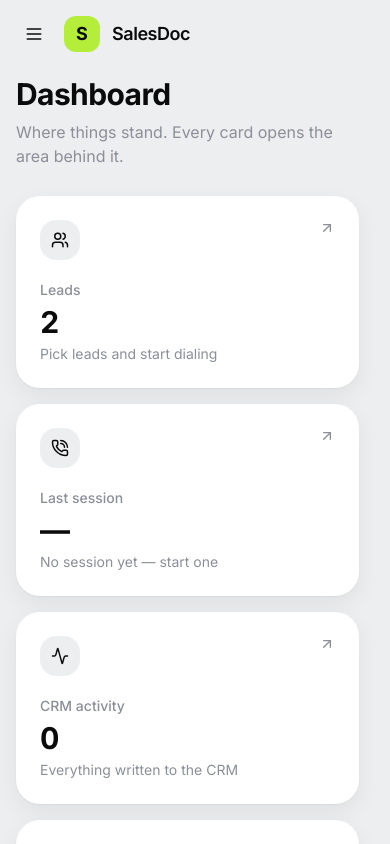
Test: mobile navigation › hides the menu behind a burger until it is opened
The image size is (390, 844).
expect the heading "Dashboard" is shown: met, box [16,76,171,112]
Click the button named "open menu": (34, 34) [16,16,52,52]
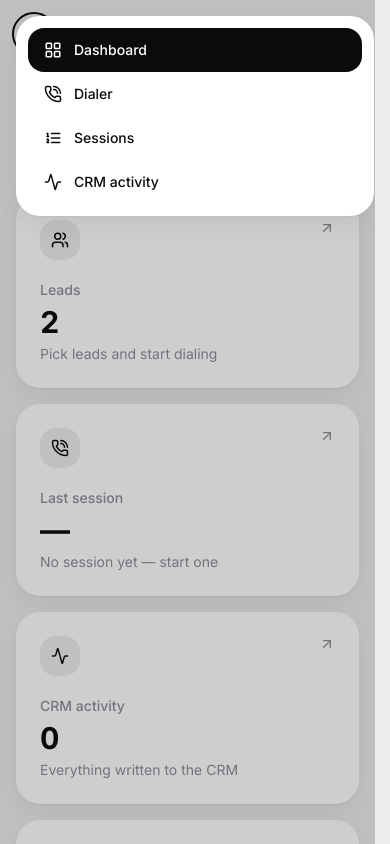
expect the button named "close menu" is shown: met, box [16,16,52,52]
expect the dialog named "menu" is shown: met
